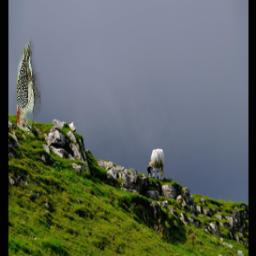Woodpecker: (17, 38, 41, 132)
